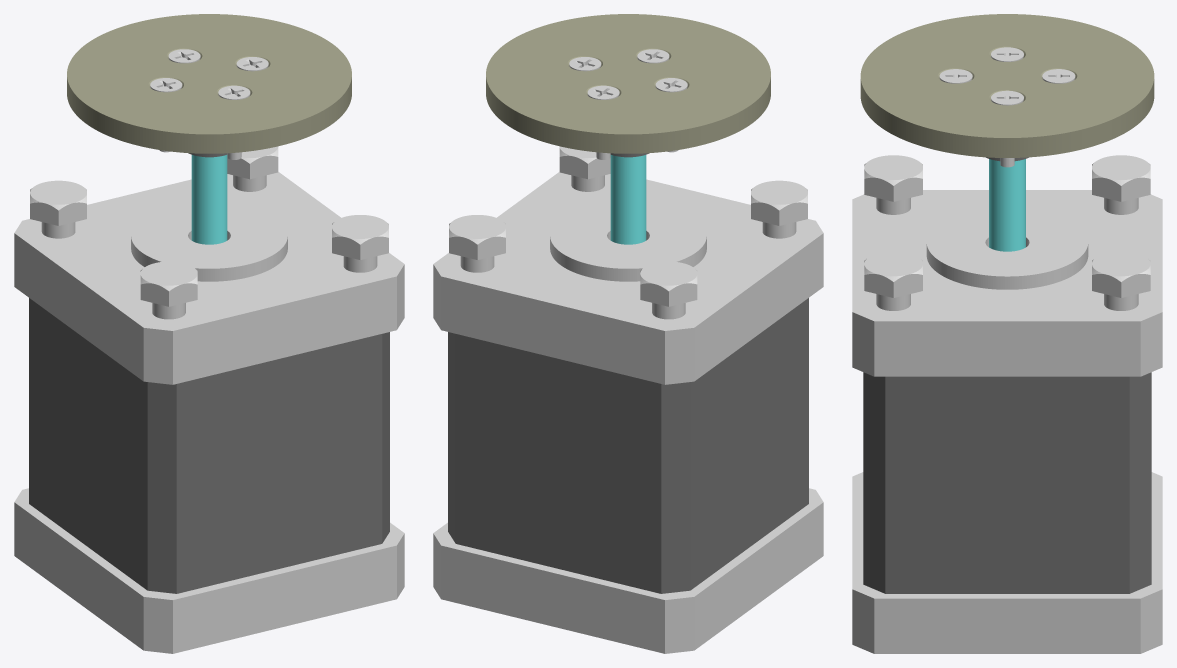
3 views of the same model, side by side, from view 1: azimuth 30°, elevation 25°; view 2: azimuth 150°, elevation 25°; view 3: azimuth 270°, elevation 25° (orthographic). The views are drawn at different scales.
Parts seen in each view (by area): view 1: out-motor-base-stator, out-motor-base-topcap, out-disc, out-motor-base-botcap, out-motor-base-shaft, out-motor-screw_001, out-motor-screw_002, out-motor-screw_000, out-motor-screw_003; view 2: out-motor-base-stator, out-motor-base-topcap, out-disc, out-motor-base-botcap, out-motor-base-shaft, out-motor-screw_002, out-motor-screw_001, out-motor-screw_003, out-motor-screw_000; view 3: out-motor-base-stator, out-motor-base-topcap, out-disc, out-motor-base-botcap, out-motor-base-shaft, out-motor-screw_000, out-motor-screw_001, out-motor-screw_002, out-motor-screw_003, out-boss-screw_002.
Part boxes in pixels (box(x1,y1,x2,y2)): out-motor-base-stator: box(29, 298, 389, 593); out-motor-base-topcap: box(14, 172, 404, 384); out-disc: box(67, 14, 351, 153); out-motor-base-botcap: box(14, 488, 404, 653); out-motor-base-shaft: box(191, 155, 227, 244); out-motor-screw_001: box(140, 261, 197, 319); out-motor-screw_002: box(30, 180, 86, 238); out-motor-screw_000: box(332, 215, 388, 272); out-motor-screw_003: box(227, 146, 278, 191); out-motor-base-stator: box(448, 298, 808, 593); out-motor-base-topcap: box(433, 172, 823, 384); out-disc: box(486, 14, 770, 153); out-motor-base-botcap: box(433, 488, 823, 653); out-motor-base-shaft: box(610, 155, 646, 244); out-motor-screw_002: box(640, 261, 697, 319); out-motor-screw_001: box(751, 180, 807, 238); out-motor-screw_003: box(449, 215, 505, 272); out-motor-screw_000: box(559, 146, 610, 191); out-motor-base-stator: box(863, 372, 1151, 593); out-motor-base-topcap: box(852, 190, 1162, 376); out-disc: box(860, 14, 1154, 157); out-motor-base-botcap: box(852, 472, 1162, 653); out-motor-base-shaft: box(989, 159, 1025, 251); out-motor-screw_000: box(864, 251, 922, 310); out-motor-screw_001: box(864, 155, 922, 214); out-motor-screw_002: box(1092, 155, 1150, 214); out-motor-screw_003: box(1092, 251, 1150, 310); out-boss-screw_002: box(991, 90, 1023, 167).
Size of the model in its own units: 0.0423 by 0.077 by 0.0423.
